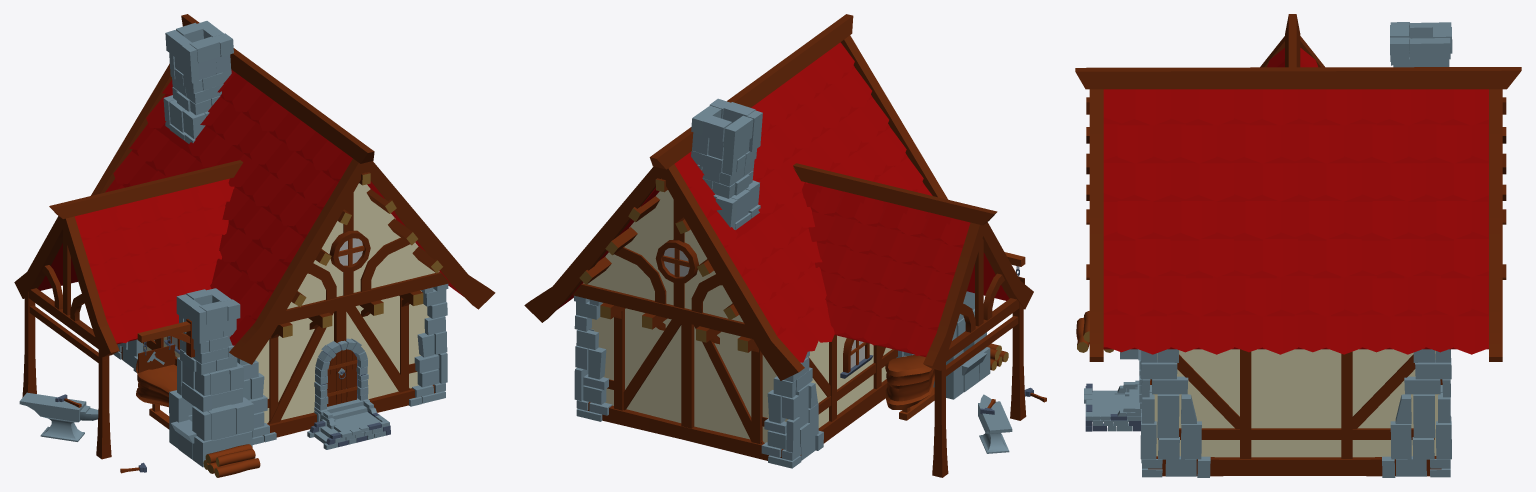
The model's file is blacksmith.obj.
3 renders of one model, left to right at view 1: azimuth 30°, elevation 25°; view 2: azimuth 150°, elevation 25°; view 3: azimuth 270°, elevation 25°, orthographic. The views are drawn at different scales.
Parts seen in each view (by area): view 1: Blacksmith_Cube.000; view 2: Blacksmith_Cube.000; view 3: Blacksmith_Cube.000.
Part boxes in pixels (box(x1,y1,x2,y2)): Blacksmith_Cube.000: box(14, 14, 495, 477); Blacksmith_Cube.000: box(524, 14, 1046, 477); Blacksmith_Cube.000: box(1075, 14, 1521, 477).
Bounding box in the file's own units: 10 × 7.72 × 8.44.
